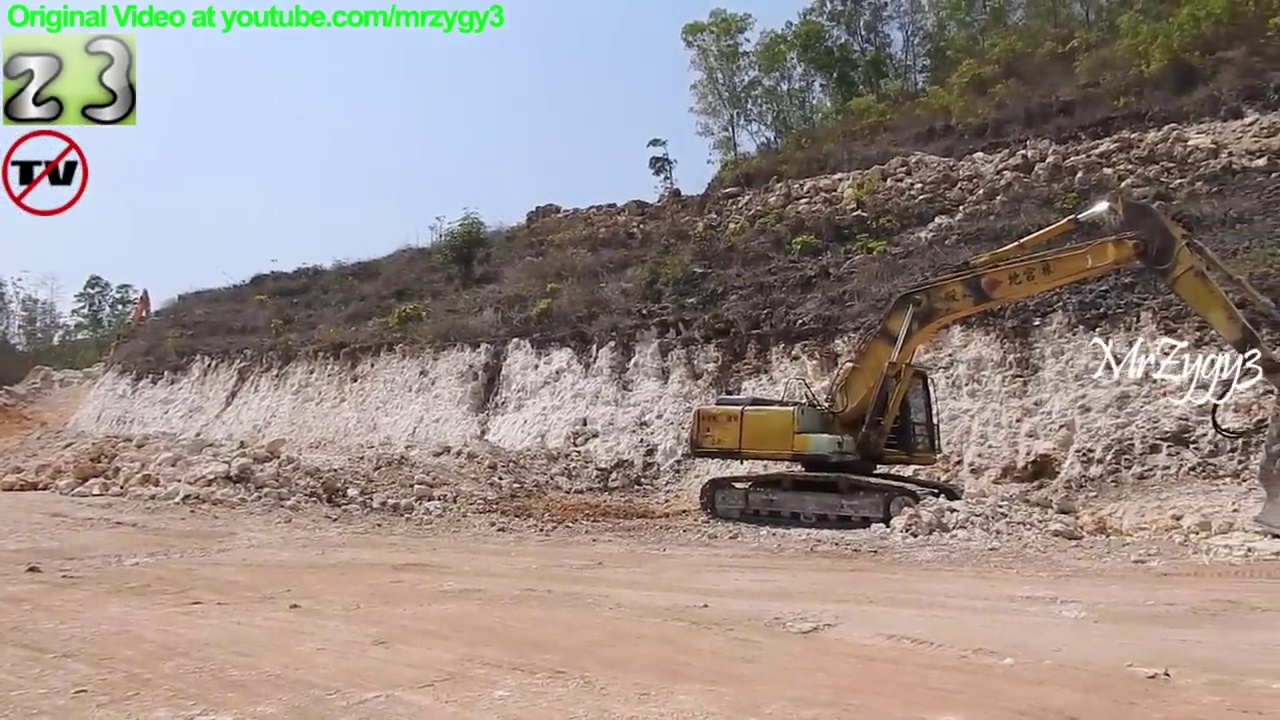excavator: (678, 190, 1280, 537), (106, 285, 161, 376)
